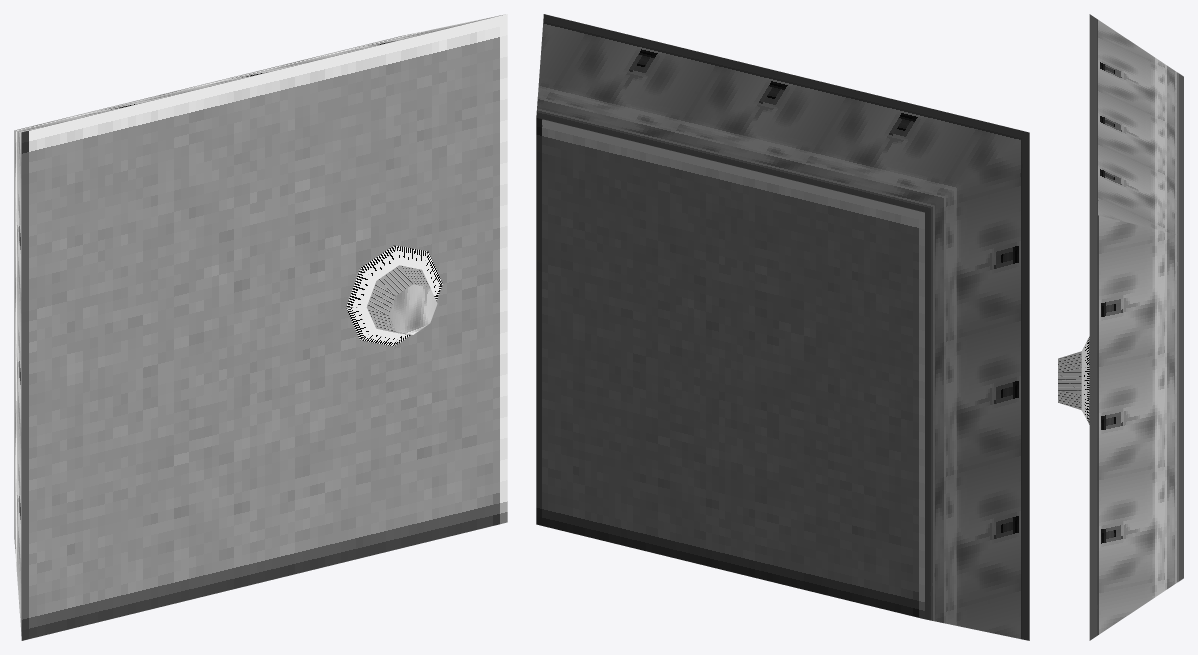
The model's file is PsafedoorZ.obj.
3 views of the same model, side by side, from view 1: azimuth 30°, elevation 25°; view 2: azimuth 150°, elevation 25°; view 3: azimuth 270°, elevation 25° (orthographic). The views are drawn at different scales.
Bounding box in the file's own units: 1000 × 1000 × 267.
Materials: 4 (4 with a texture image).
